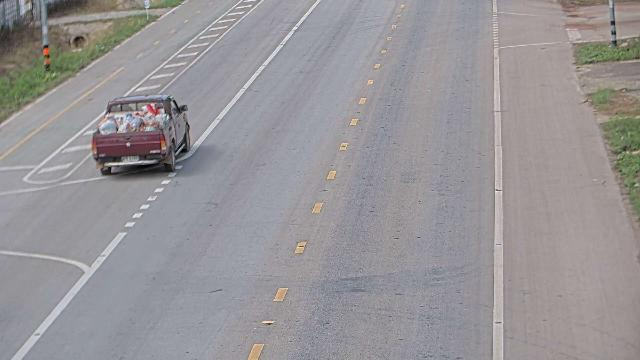pickup-truck: (90, 93, 191, 175)
